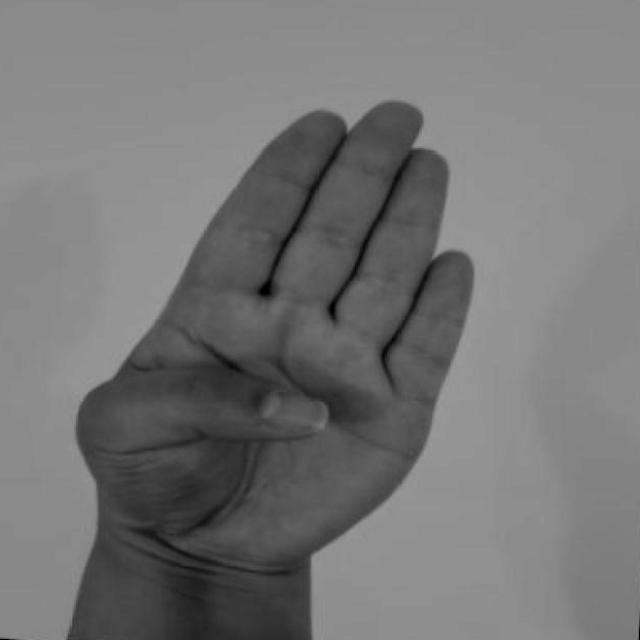B: (63, 84, 483, 584)
